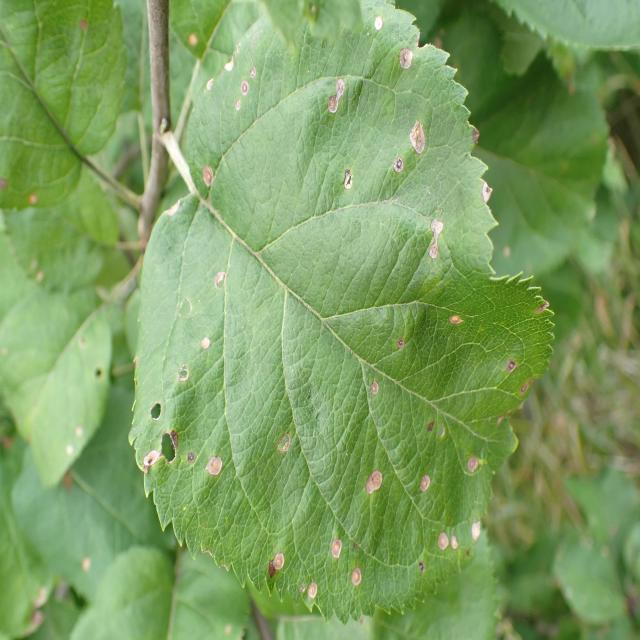frog-eye-leaf-spot: (128, 0, 556, 627)
